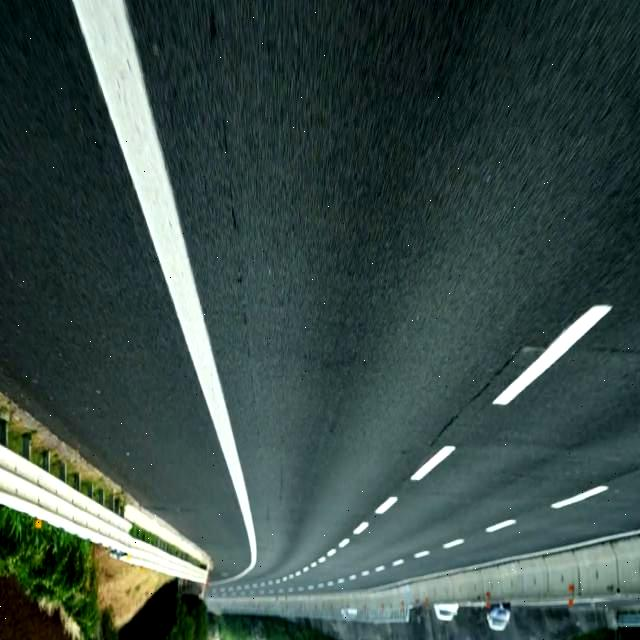lane: (68, 0, 257, 584), (510, 325, 594, 396), (412, 450, 449, 480), (391, 463, 425, 491), (552, 490, 602, 508), (376, 495, 400, 514), (487, 516, 519, 530), (329, 530, 348, 542), (444, 540, 468, 549), (533, 518, 546, 524), (381, 564, 398, 568), (307, 550, 320, 555), (524, 522, 531, 528)
road: (110, 2, 640, 592), (1, 1, 223, 580)
